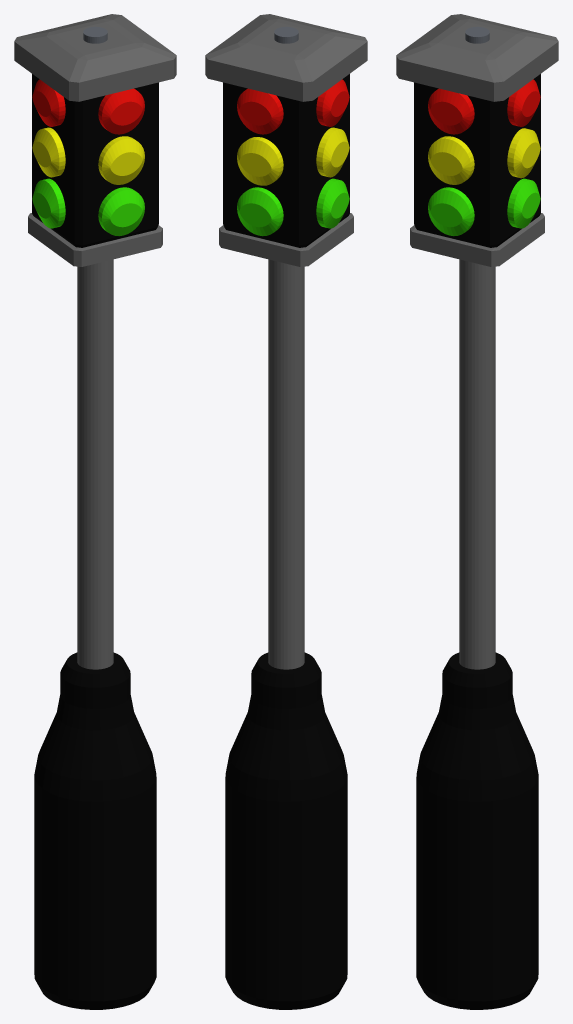
File: AnnoyingLights.fbx
3 views of the same model, side by side, from view 1: azimuth 30°, elevation 25°; view 2: azimuth 150°, elevation 25°; view 3: azimuth 330°, elevation 25° (orthographic).
Parts seen in each view (by area): view 1: Cylinder.002, Cylinder.003, Cylinder.004, Cylinder.001; view 2: Cylinder.002, Cylinder.003, Cylinder.004, Cylinder.001; view 3: Cylinder.002, Cylinder.003, Cylinder.004, Cylinder.001.
Part boxes in pixels (left/top/right/bottom): Cylinder.002: left=14, top=14, right=176, bottom=1009; Cylinder.003: left=32, top=178, right=144, bottom=236; Cylinder.004: left=32, top=127, right=144, bottom=184; Cylinder.001: left=32, top=79, right=144, bottom=134; Cylinder.002: left=205, top=14, right=367, bottom=1009; Cylinder.003: left=237, top=178, right=349, bottom=236; Cylinder.004: left=237, top=127, right=349, bottom=185; Cylinder.001: left=237, top=79, right=349, bottom=134; Cylinder.002: left=396, top=14, right=558, bottom=1009; Cylinder.003: left=428, top=178, right=540, bottom=236; Cylinder.004: left=428, top=128, right=540, bottom=184; Cylinder.001: left=428, top=79, right=540, bottom=134.
Size of the model in its own units: 102 by 861 by 102.
